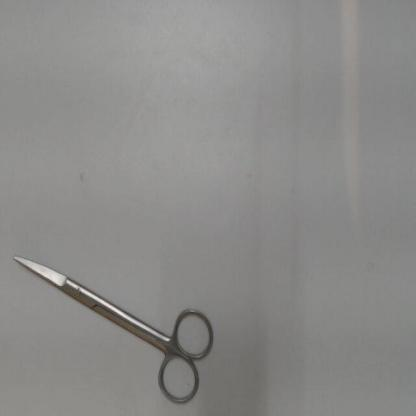Curved Mayo Scissors: (8, 249, 220, 410)
